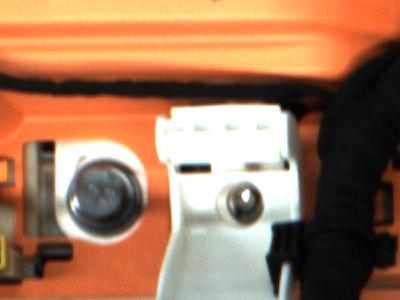nut_b: (59, 156, 154, 239)
